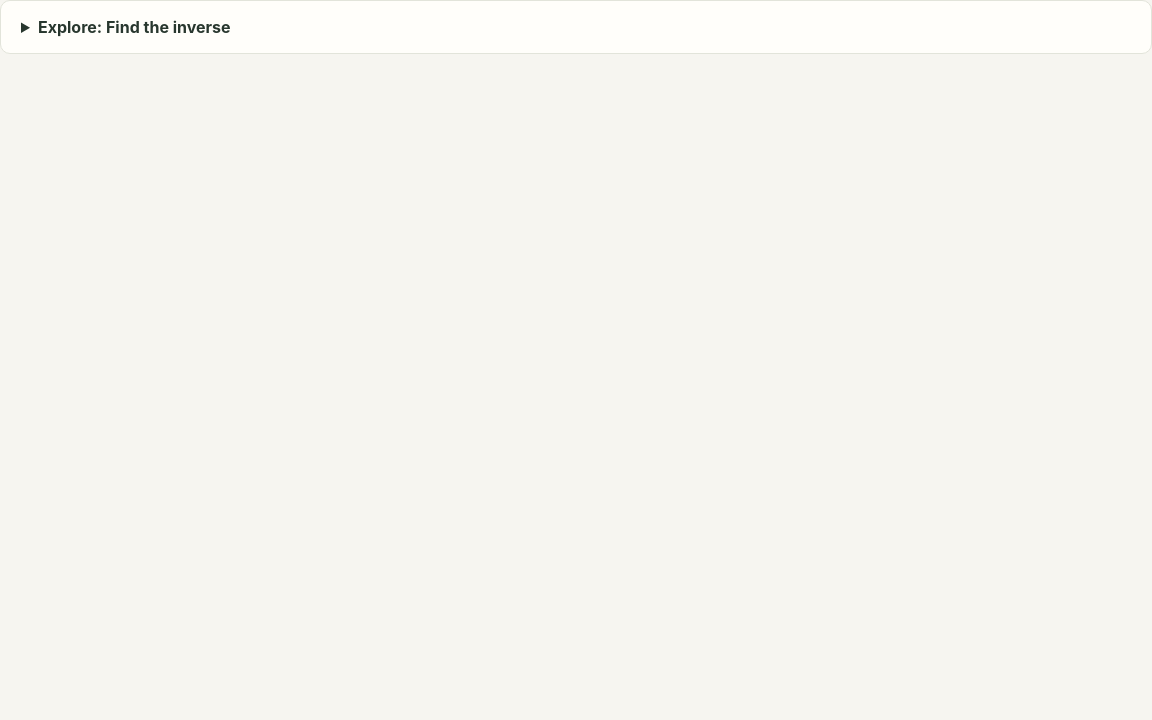
it: shows that 3 has an inverse modulo 5 and becomes a zero divisor modulo 6
This screenshot has width=1152, height=720.
Click the heading "Explore: Find the inverse".
click(134, 27)  # box left=38, top=17, right=230, bottom=37
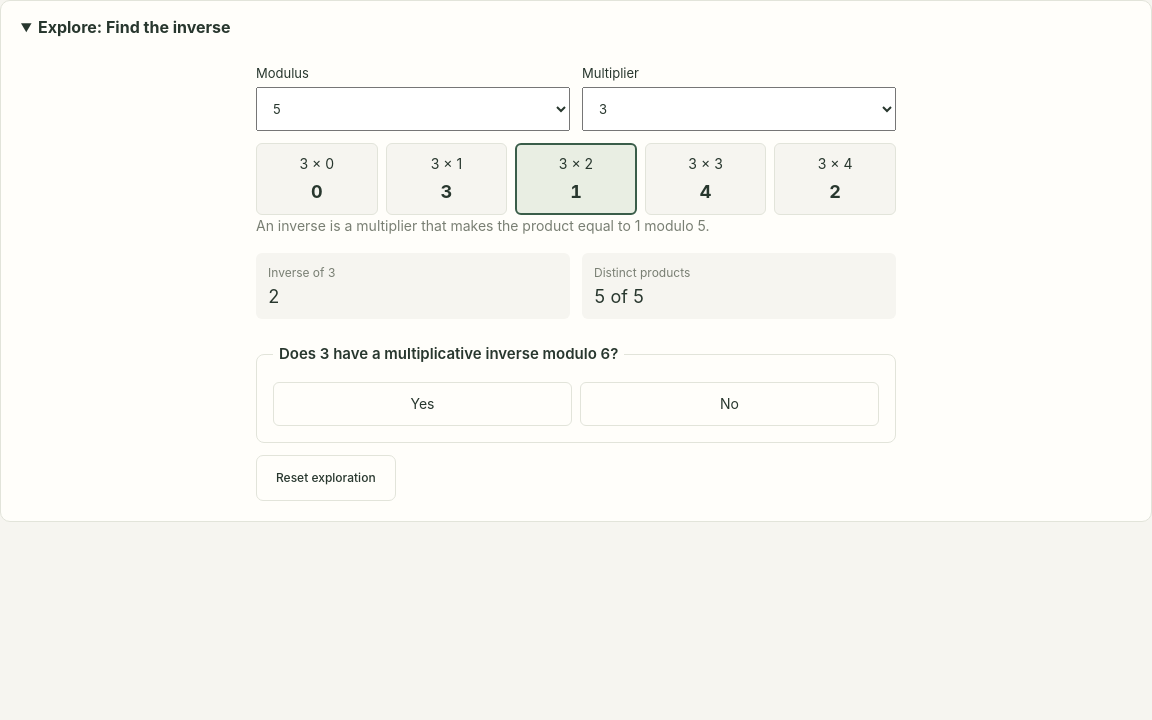
Select "6" in the dropdown labelled "Modulus" at (413, 109), box left=256, top=87, right=570, bottom=131
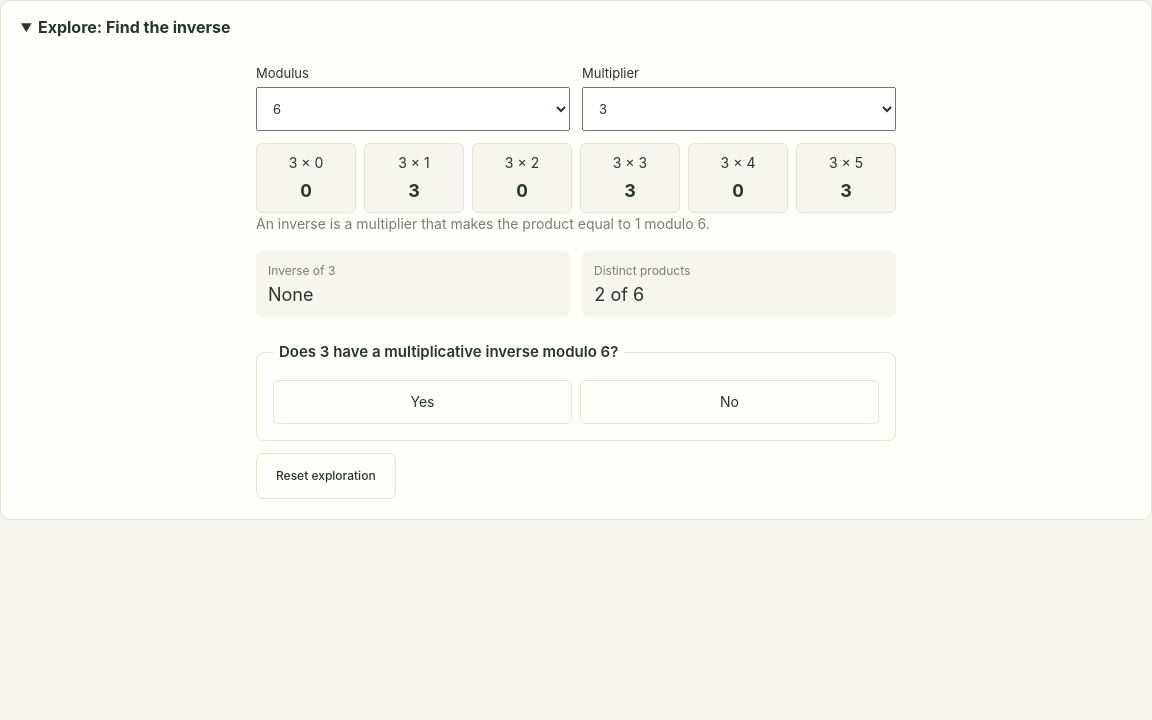
Expected: the text "None" is shown, left=268, top=284, right=314, bottom=305
Expected: the text "2 of 6" is shown, left=594, top=284, right=644, bottom=305
